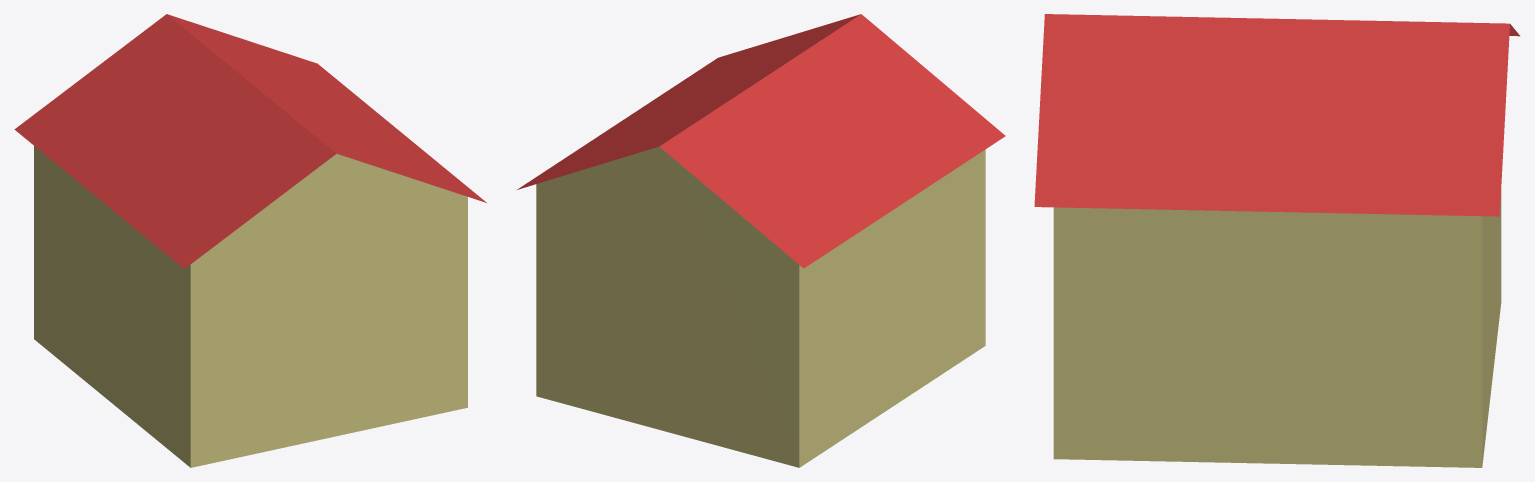
The picture shows the model from 3 angles, left to right: view 1: azimuth 30°, elevation 25°; view 2: azimuth 150°, elevation 25°; view 3: azimuth 270°, elevation 25°; orthographic projection. The views are drawn at different scales.
Bounding box in the file's own units: 12.22 × 13.21 × 10.88.
